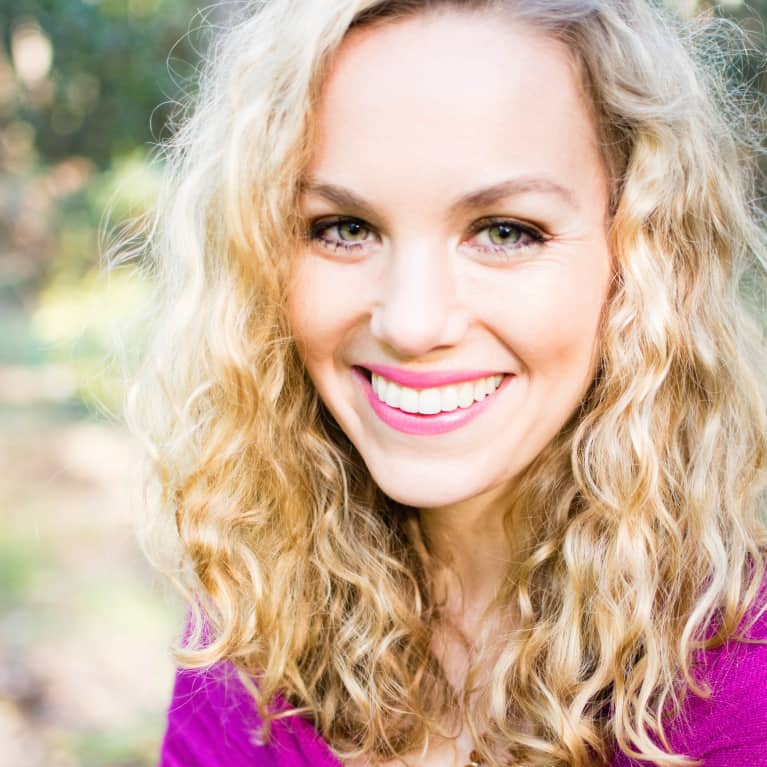happy: (263, 142, 622, 514)
